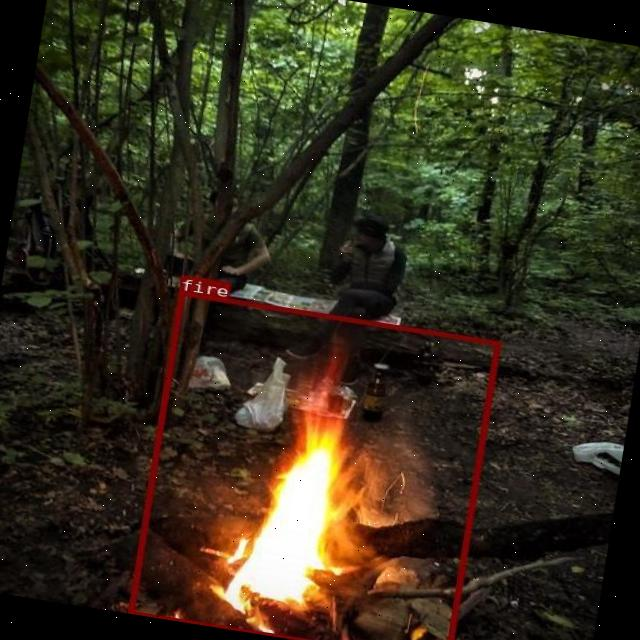fire: (127, 290, 500, 640)
